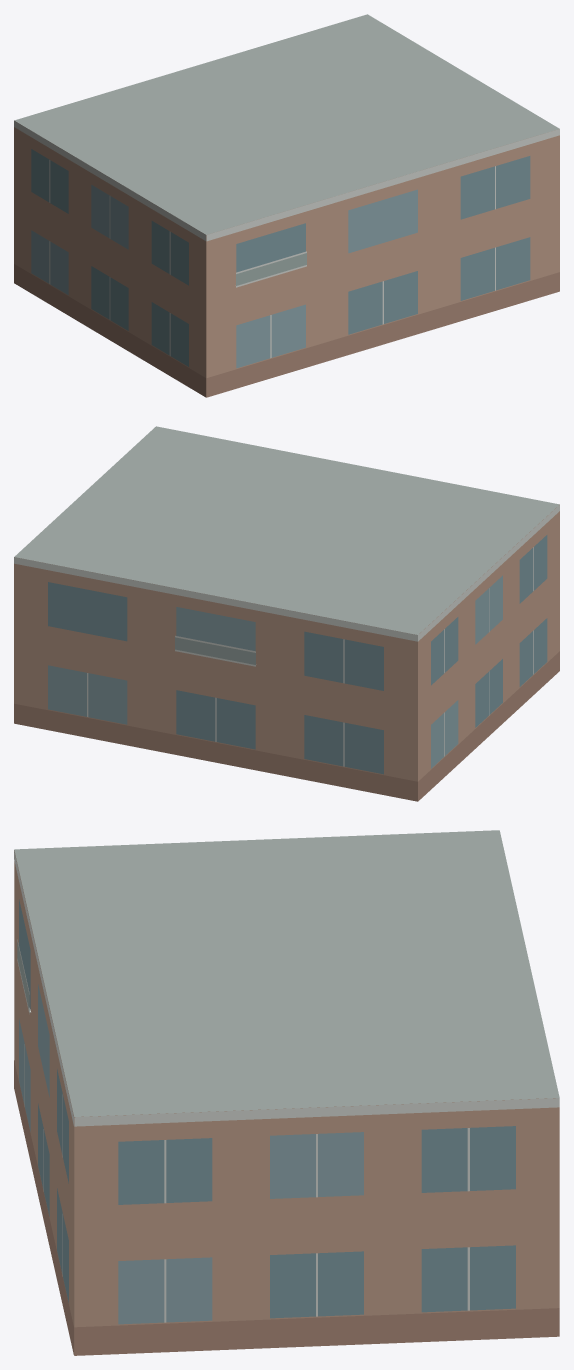
The model's file is survey-upis-32826980.glb.
3 renders of one model, top to bottom at view 1: azimuth 30°, elevation 25°; view 2: azimuth 150°, elevation 25°; view 3: azimuth 270°, elevation 25°, orthographic. The views are drawn at different scales.
Visible parts, largest first — view 1: survey-upis-32826980.tmp; view 2: survey-upis-32826980.tmp; view 3: survey-upis-32826980.tmp.
Part boxes in pixels (left/top/right/bottom): survey-upis-32826980.tmp: left=14, top=14, right=559, bottom=397; survey-upis-32826980.tmp: left=14, top=426, right=559, bottom=801; survey-upis-32826980.tmp: left=14, top=830, right=559, bottom=1355.
Bounding box in the file's own units: 15.74 × 6.1 × 12.64.
